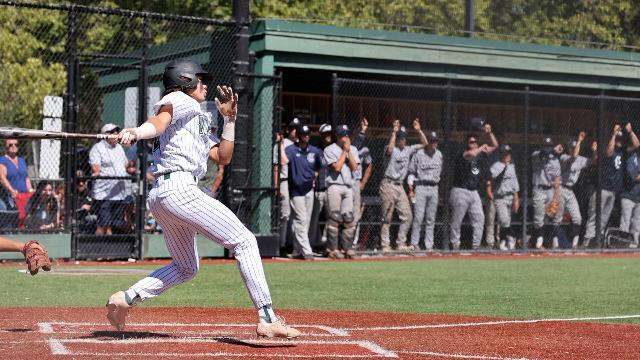baseball bat: (0, 125, 118, 141)
